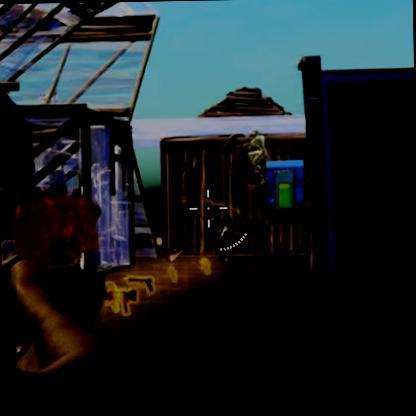person: (240, 134, 264, 182), (216, 216, 232, 264)
